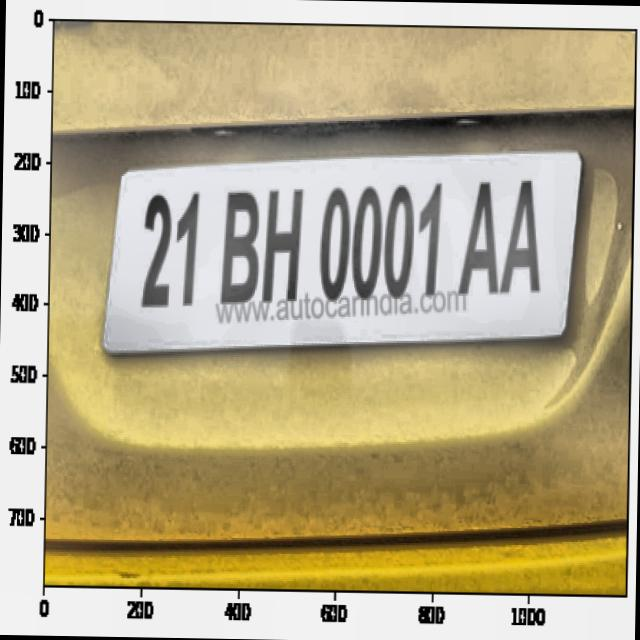license_plate: (130, 163, 557, 330)
